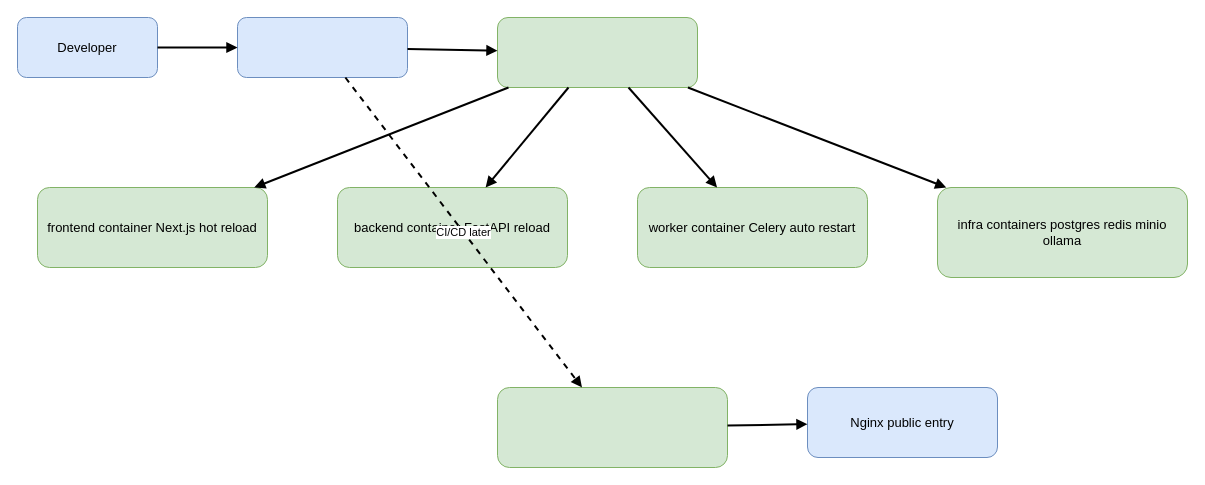
Image size: 1205x485. Some labels were removed from this diagram. The centre of each missing label's shape, as x and y in pixels:
"AgentHive Repo" belongs at point 322,47.
"Docker Compose Dev" belongs at point 597,52.
"Production Compose optimized images" belongs at point 612,427.
